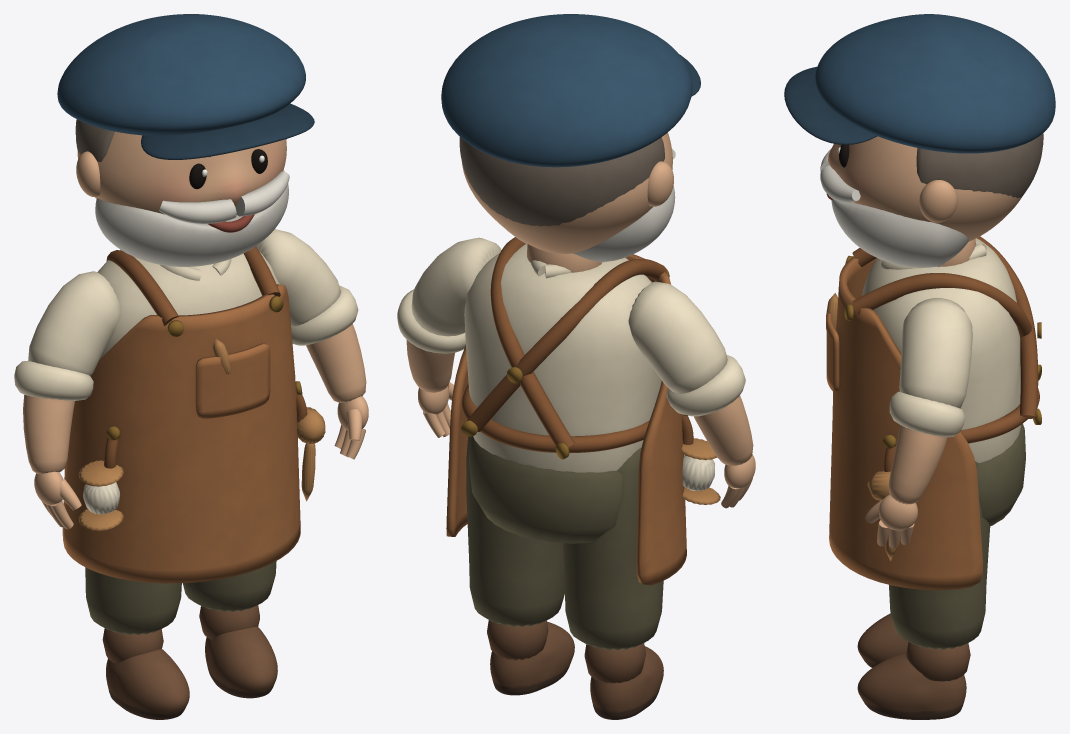
The model's file is npc_artisan.glb.
The picture shows the model from 3 angles, left to right: view 1: azimuth 30°, elevation 25°; view 2: azimuth 150°, elevation 25°; view 3: azimuth 270°, elevation 25°; orthographic projection.
Parts seen in each view (by area): view 1: Leather_Apron, FlatCap_Crown, Head_Sculpt, Beard_ShortTrim, Sleeve_R, Shirt_Torso, Trouser_R, Apron_ChestPocket, Boot_R, FlatCap_Visor, Sleeve_L, Boot_L (+20 smaller); view 2: FlatCap_Crown, Shirt_Torso, Leather_Apron, Trouser_R, Pants_Pelvis, Hair_TempleBack, Trouser_L, Sleeve_R, Sleeve_L, Head_Sculpt, Apron_XStrap_1, Boot_L (+15 smaller); view 3: FlatCap_Crown, Leather_Apron, Shirt_Torso, Head_Sculpt, Sleeve_L, Trouser_L, Beard_ShortTrim, Boot_L, Hair_TempleBack, FlatCap_Visor, Forearm_L, Pants_Pelvis (+11 smaller).
Boxes of the visible parts, x1,y1,x2,y2 form: Leather_Apron: (62, 284, 300, 583); FlatCap_Crown: (57, 14, 305, 135); Head_Sculpt: (77, 131, 286, 214); Beard_ShortTrim: (95, 170, 288, 266); Sleeve_R: (28, 271, 120, 375); Shirt_Torso: (97, 249, 279, 359); Trouser_R: (85, 567, 181, 634); Apron_ChestPocket: (195, 343, 270, 418); Boot_R: (106, 648, 189, 719); FlatCap_Visor: (141, 103, 314, 159); Sleeve_L: (256, 229, 340, 326); Boot_L: (205, 626, 277, 698); FlatCap_Crown: (441, 14, 692, 167); Shirt_Torso: (464, 244, 661, 472); Leather_Apron: (446, 254, 686, 585); Trouser_R: (563, 447, 663, 650); Pants_Pelvis: (469, 436, 623, 543); Hair_TempleBack: (459, 137, 664, 226); Trouser_L: (466, 436, 564, 626); Sleeve_R: (628, 281, 727, 393); Sleeve_L: (411, 237, 501, 336); Head_Sculpt: (461, 132, 672, 253); Apron_XStrap_1: (467, 259, 666, 431); Boot_L: (490, 621, 574, 695); FlatCap_Crown: (815, 14, 1055, 153); Leather_Apron: (829, 256, 982, 590); Shirt_Torso: (862, 238, 1020, 462); Head_Sculpt: (828, 136, 1022, 241); Sleeve_L: (899, 298, 972, 408); Trouser_L: (889, 461, 990, 649); Beard_ShortTrim: (831, 199, 968, 267); Boot_L: (857, 651, 966, 719); Hair_TempleBack: (916, 133, 1043, 197); FlatCap_Visor: (784, 66, 877, 144); Forearm_L: (888, 425, 947, 504); Pants_Pelvis: (976, 423, 1025, 526).
Bounding box in the file's own units: 0.6805 × 1.28 × 0.4805.
Materials: 4 (1 with a texture image).
